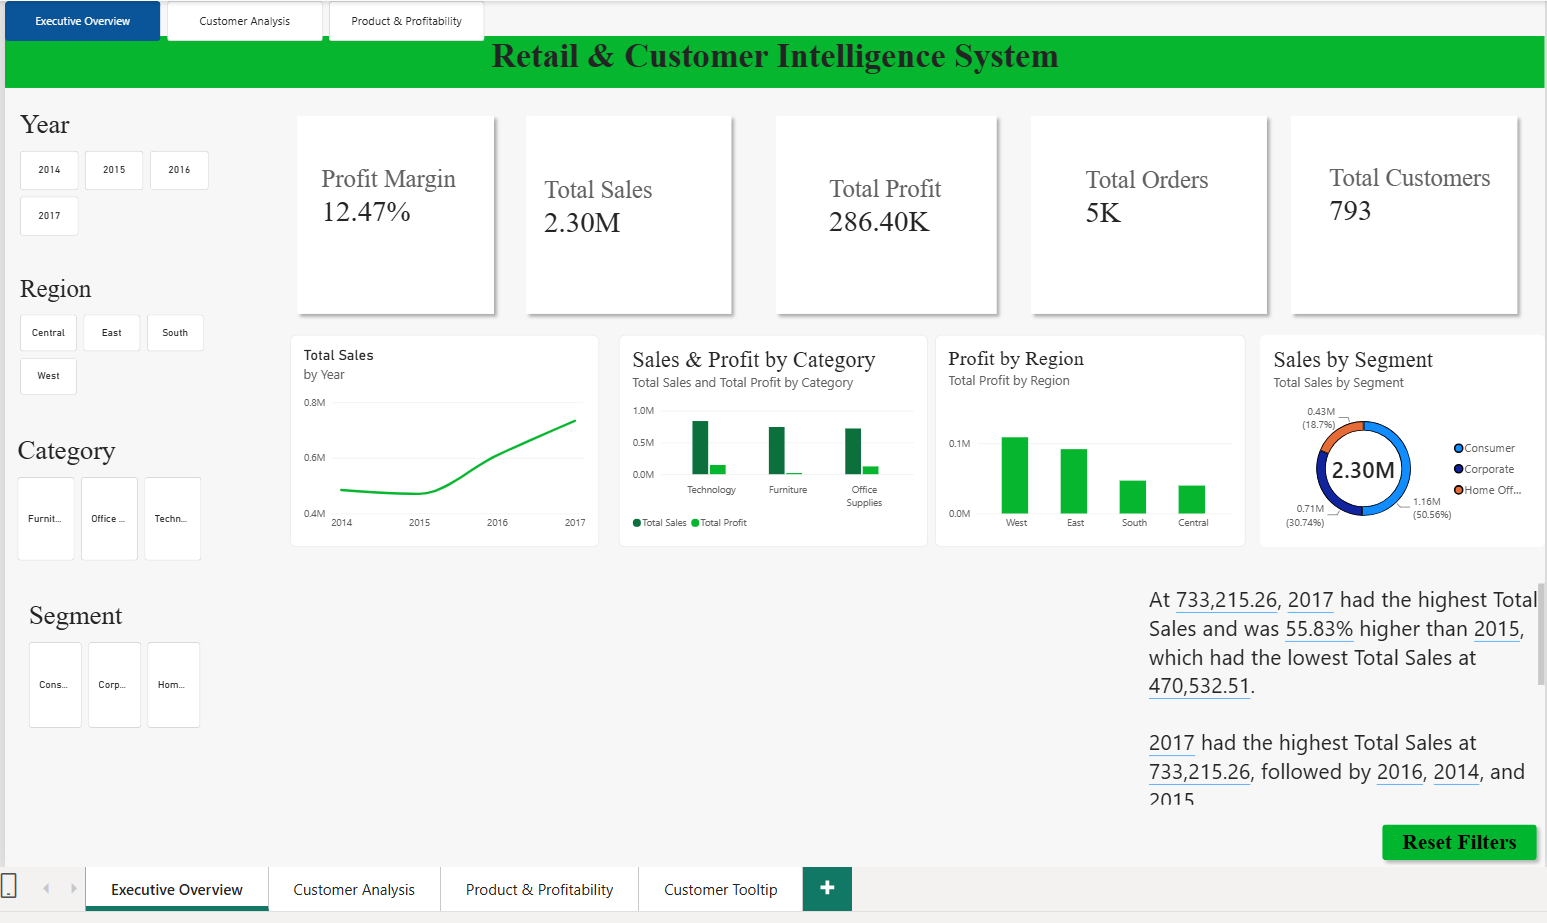

Layout of this report page (visuals, bound fields, positions):
{"tool":"powerbi","page":{"name":"Executive Overview","canvas":[1920,1080],"ordinal":0},"visuals":[{"type":"textbox","box":[0,43.6,1920.4,64.5],"z":0},{"type":"shape","box":[952.3,134.3,293,265.1],"z":1000},{"type":"shape","box":[1269.8,134.3,312.2,265.1],"z":2000},{"type":"shape","box":[1594.2,134.3,300,265.1],"z":3000},{"type":"shape","box":[640.1,134.3,273.8,265.1],"z":4000},{"type":"shape","box":[355.8,134.3,263.4,265.1],"z":5000},{"type":"cardVisual","fields":{"Data":["KPI's measure.Total Sales"]},"box":[655.8,169.2,242.4,179.7],"z":6000},{"type":"cardVisual","fields":{"Data":["KPI's measure.Total Profit"]},"box":[1011.6,160.5,218,195.3],"z":7000},{"type":"cardVisual","fields":{"Data":["KPI's measure.Total Orders"]},"box":[1330.8,153.5,233.7,188.4],"z":8000},{"type":"cardVisual","fields":{"Data":["KPI's measure.Total Customers"]},"box":[1636.1,153.5,245.9,183.1],"z":9000},{"type":"cardVisual","fields":{"Data":["KPI's measure.Profit Margin"]},"box":[378.5,155.2,219.8,179.7],"z":10000},{"type":"lineChart","fields":{"Category":["DateTable.Year"],"Y":["KPI's measure.Total Sales"]},"box":[355.8,416.9,385.5,265.1],"z":11000},{"type":"clusteredColumnChart","title":"Sales & Profit by Category","fields":{"Category":["Sample - Superstore.Category"],"Y":["KPI's measure.Total Sales","KPI's measure.Total Profit"]},"box":[765.7,416.9,385.5,265.1],"z":12000},{"type":"clusteredColumnChart","title":"Profit by Region","fields":{"Category":["Sample - Superstore.Region"],"Y":["KPI's measure.Total Profit"]},"box":[1159.9,416.9,387.2,265.1],"z":13000},{"type":"donutChart","title":"Sales by Segment","fields":{"Category":["Sample - Superstore.Segment"],"Y":["KPI's measure.Total Sales"]},"box":[1564.5,416.9,355.8,265.1],"z":14000},{"type":"advancedSlicerVisual","fields":{"Values":["DateTable.Year"]},"box":[19.2,134.3,237.2,160.5],"z":15000},{"type":"advancedSlicerVisual","fields":{"Values":["Sample - Superstore.Region"]},"box":[19.2,341.9,230.2,150],"z":16000},{"type":"advancedSlicerVisual","fields":{"Values":["Sample - Superstore.Category"]},"box":[15.7,540.7,230.2,157],"z":17000},{"type":"advancedSlicerVisual","fields":{"Values":["Sample - Superstore.Segment"]},"box":[29.7,746.5,216.3,160.5],"z":18000},{"type":"actionButton","box":[1709.2,1018.4,210.8,62.6],"z":19000},{"type":"pageNavigator","box":[0,0,600,50],"z":20000}]}

Visuals, with their boxes on the page's 1920x1080 design canvas (x1, y1, x2, y2). These are canvas units, not pixel positions in the 1547x923 screenshot, which may show the page scaled, cropped or inside an application window:
textbox: [0,44,1920,108]
shape: [952,134,1245,399]
shape: [1270,134,1582,399]
shape: [1594,134,1894,399]
shape: [640,134,914,399]
shape: [356,134,619,399]
cardVisual - KPI's measure.Total Sales: [656,169,898,349]
cardVisual - KPI's measure.Total Profit: [1012,160,1230,356]
cardVisual - KPI's measure.Total Orders: [1331,154,1564,342]
cardVisual - KPI's measure.Total Customers: [1636,154,1882,337]
cardVisual - KPI's measure.Profit Margin: [378,155,598,335]
lineChart - DateTable.Year x KPI's measure.Total Sales: [356,417,741,682]
"Sales & Profit by Category" clusteredColumnChart: [766,417,1151,682]
"Profit by Region" clusteredColumnChart: [1160,417,1547,682]
"Sales by Segment" donutChart: [1564,417,1920,682]
advancedSlicerVisual - DateTable.Year: [19,134,256,295]
advancedSlicerVisual - Sample - Superstore.Region: [19,342,249,492]
advancedSlicerVisual - Sample - Superstore.Category: [16,541,246,698]
advancedSlicerVisual - Sample - Superstore.Segment: [30,746,246,907]
actionButton: [1709,1018,1920,1081]
pageNavigator: [0,0,600,50]
